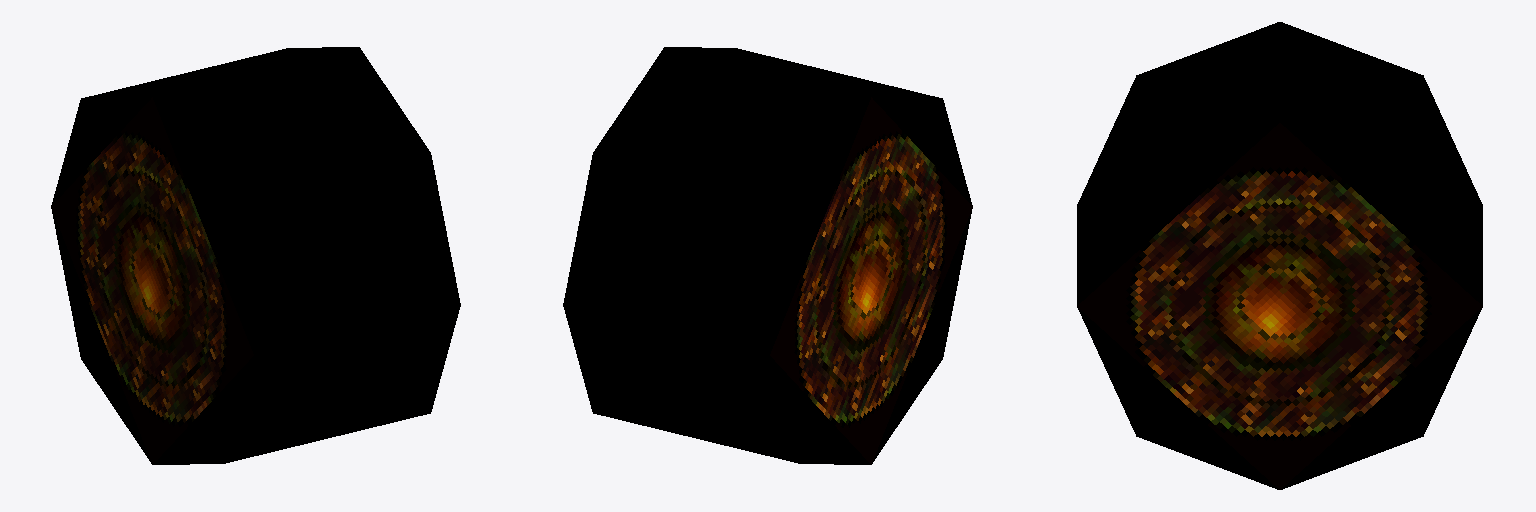
3 renders of one model, left to right at view 1: azimuth 30°, elevation 25°; view 2: azimuth 150°, elevation 25°; view 3: azimuth 270°, elevation 25°, orthographic.
Parts seen in each view (by area): view 1: WheelFrontL; view 2: WheelFrontL; view 3: WheelFrontL.
Part boxes in pixels (bbox=[...]): WheelFrontL: bbox=[51, 47, 460, 464]; WheelFrontL: bbox=[563, 47, 972, 464]; WheelFrontL: bbox=[1077, 22, 1482, 489].
Size of the model in its own units: 0.6643 by 1.13 by 1.13.
2 materials, 1 textured.